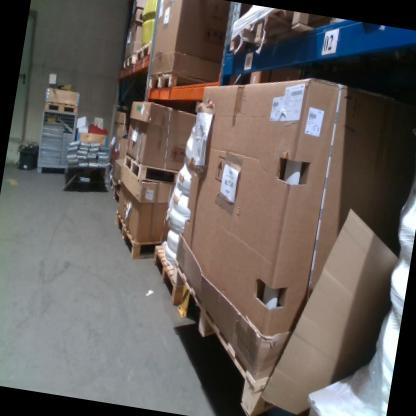pallet: (151, 259, 350, 416), (107, 207, 176, 266), (230, 3, 291, 57), (288, 12, 379, 43), (147, 239, 188, 305), (120, 150, 185, 188), (146, 68, 212, 98), (43, 98, 80, 116), (134, 38, 153, 65), (120, 53, 135, 72), (131, 7, 145, 25)
stillage: (33, 106, 80, 177)
